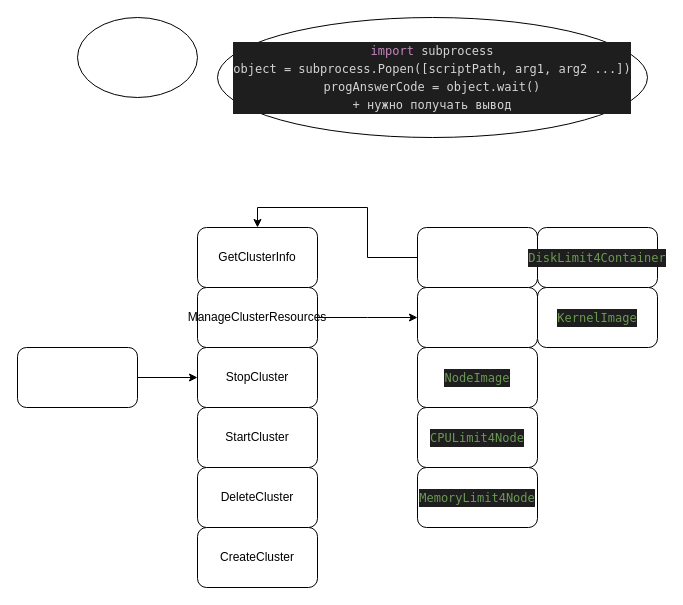
Some shapes in this 683 by 605 pixel diagram are drawn without their labels. Here are the shapes that lost their labels. From the top down, the centre of each, then its label:
pixel 137 57: ClusterName = NamespaceName
pixel 477 257: NodeCount
pixel 477 317: NodeName
pixel 77 377: Choose Namespace
